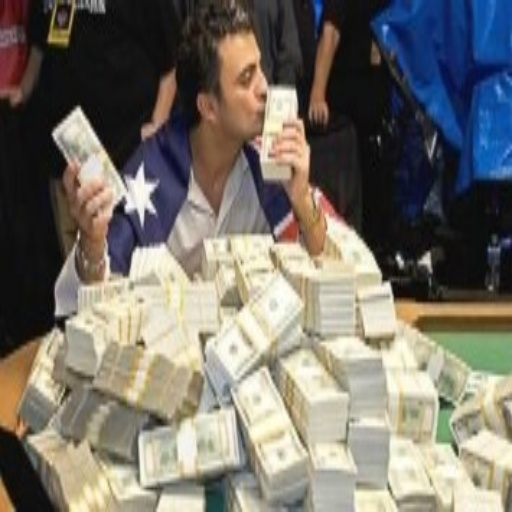hand: (62, 153, 112, 230), (268, 115, 311, 204), (137, 110, 162, 149), (308, 89, 328, 128)
